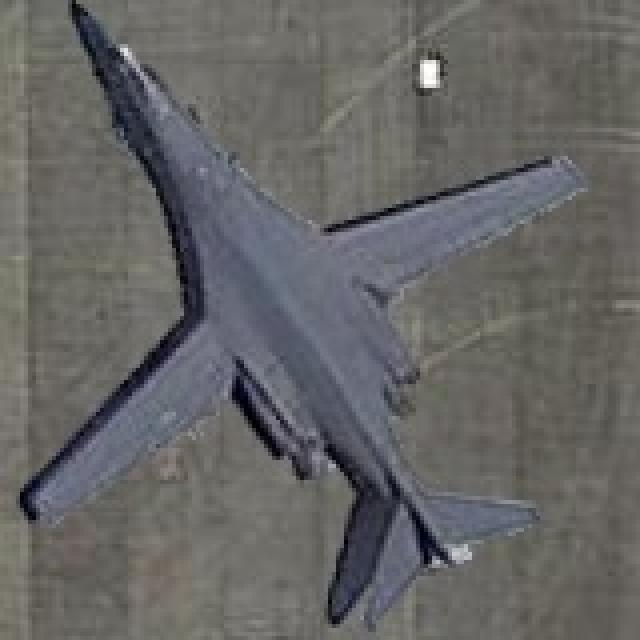B-1_TopDown: (12, 0, 588, 628)
